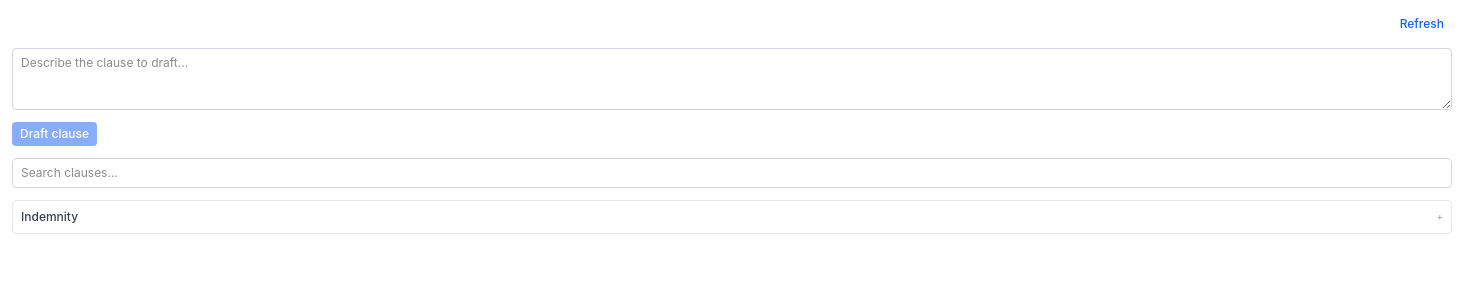
it: ClausesPanel — paid tier › expands and collapses clause content
Check: the text "Full indemnity clause text here." is not shown
Note: Click to expand
Click the text "Indemnity": (50, 216) [21,208,78,224]
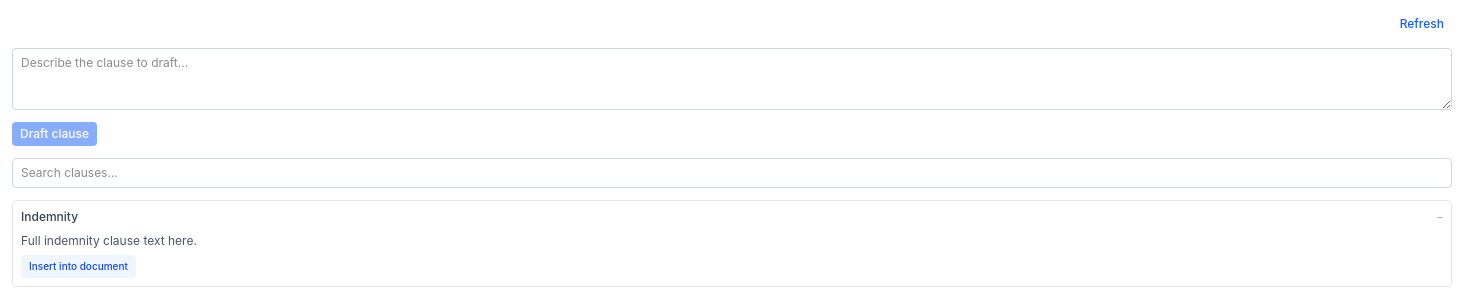
Check: the text "Full indemnity clause text here." is shown, box [21,232,197,248]
Check: the button "Insert into document" is shown, box [21,254,136,278]
Note: Click to collapse
Click the text "Indemnity": (50, 216) [21,208,78,224]
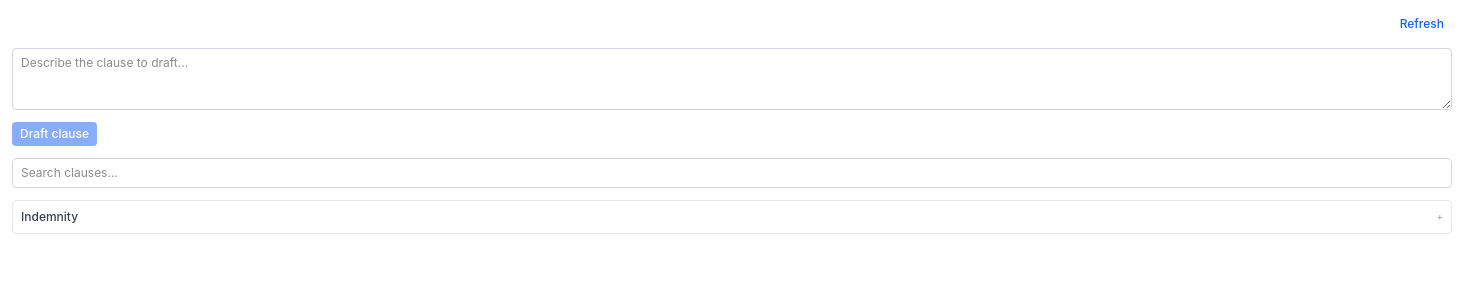
Check: the text "Full indemnity clause text here." is gone
